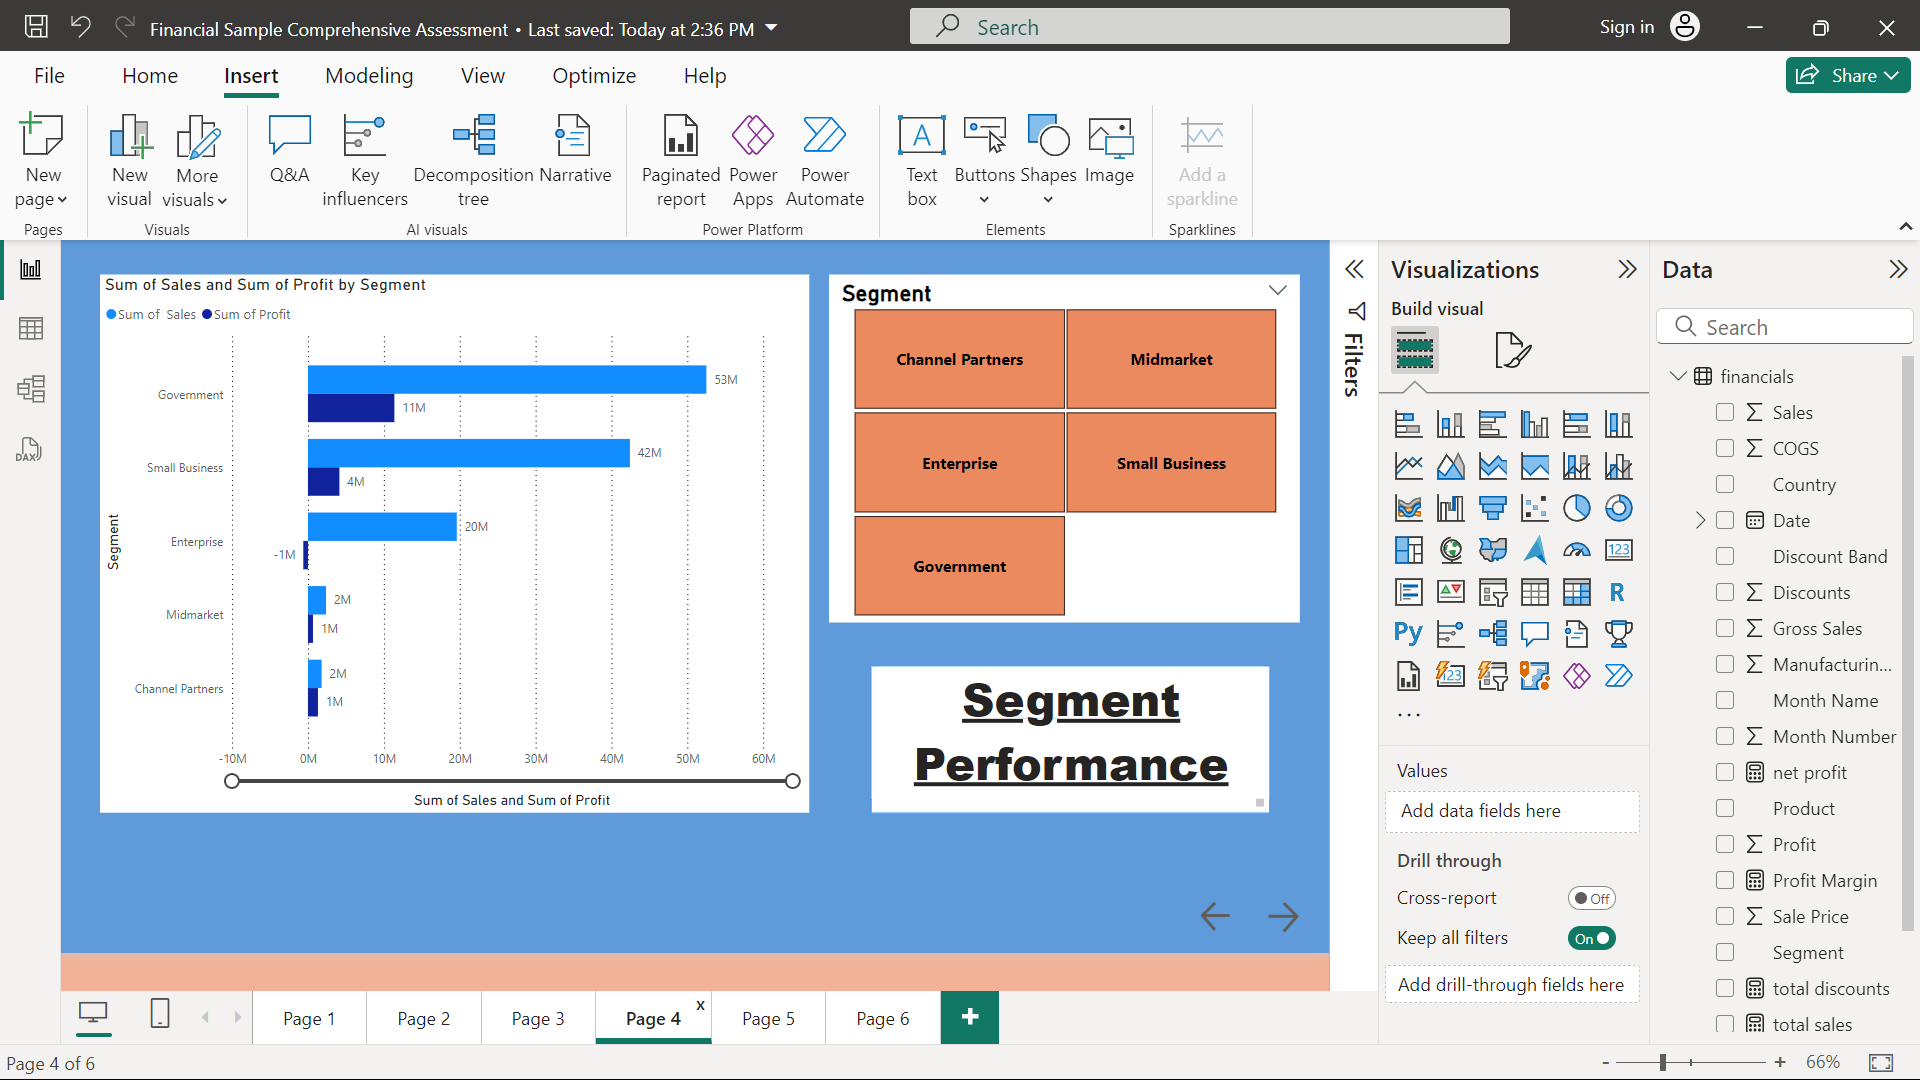

What the dashboard file says about the page in this screenshot:
{"tool":"powerbi","page":{"name":"Page 4","canvas":[1280,720],"ordinal":3},"visuals":[{"type":"slicer","title":"Segments","fields":{"Values":["financials.Segment"]},"box":[775.3,34.8,475.5,351.3],"z":0},{"type":"clusteredBarChart","fields":{"Category":["financials.Segment"],"Y":["Sum(financials. Sales)","Sum(financials.Profit)"]},"box":[39.4,34.8,716.2,543.6],"z":1000},{"type":"textbox","title":"Segment Performance","box":[817.7,430,402.8,148.4],"z":2000},{"type":"actionButton","box":[1212.9,663.2,66.6,40.9],"z":2001},{"type":"actionButton","box":[1146.3,663.2,99.9,39.4],"z":2002}]}

Visuals, with their boxes on the page's 1280x720 design canvas (x1, y1, x2, y2). These are canvas units, not pixel positions in the 1920x1080 screenshot, which may show the page scaled, cropped or inside an application window:
"Segments" slicer: <region>775, 35, 1251, 386</region>
clusteredBarChart - financials.Segment x Sum(financials. Sales): <region>39, 35, 756, 578</region>
"Segment Performance" textbox: <region>818, 430, 1220, 578</region>
actionButton: <region>1213, 663, 1280, 704</region>
actionButton: <region>1146, 663, 1246, 703</region>
